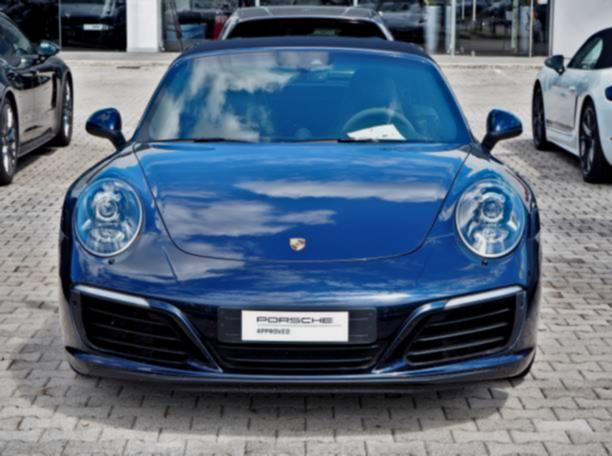porsche: (282, 232, 316, 255)
